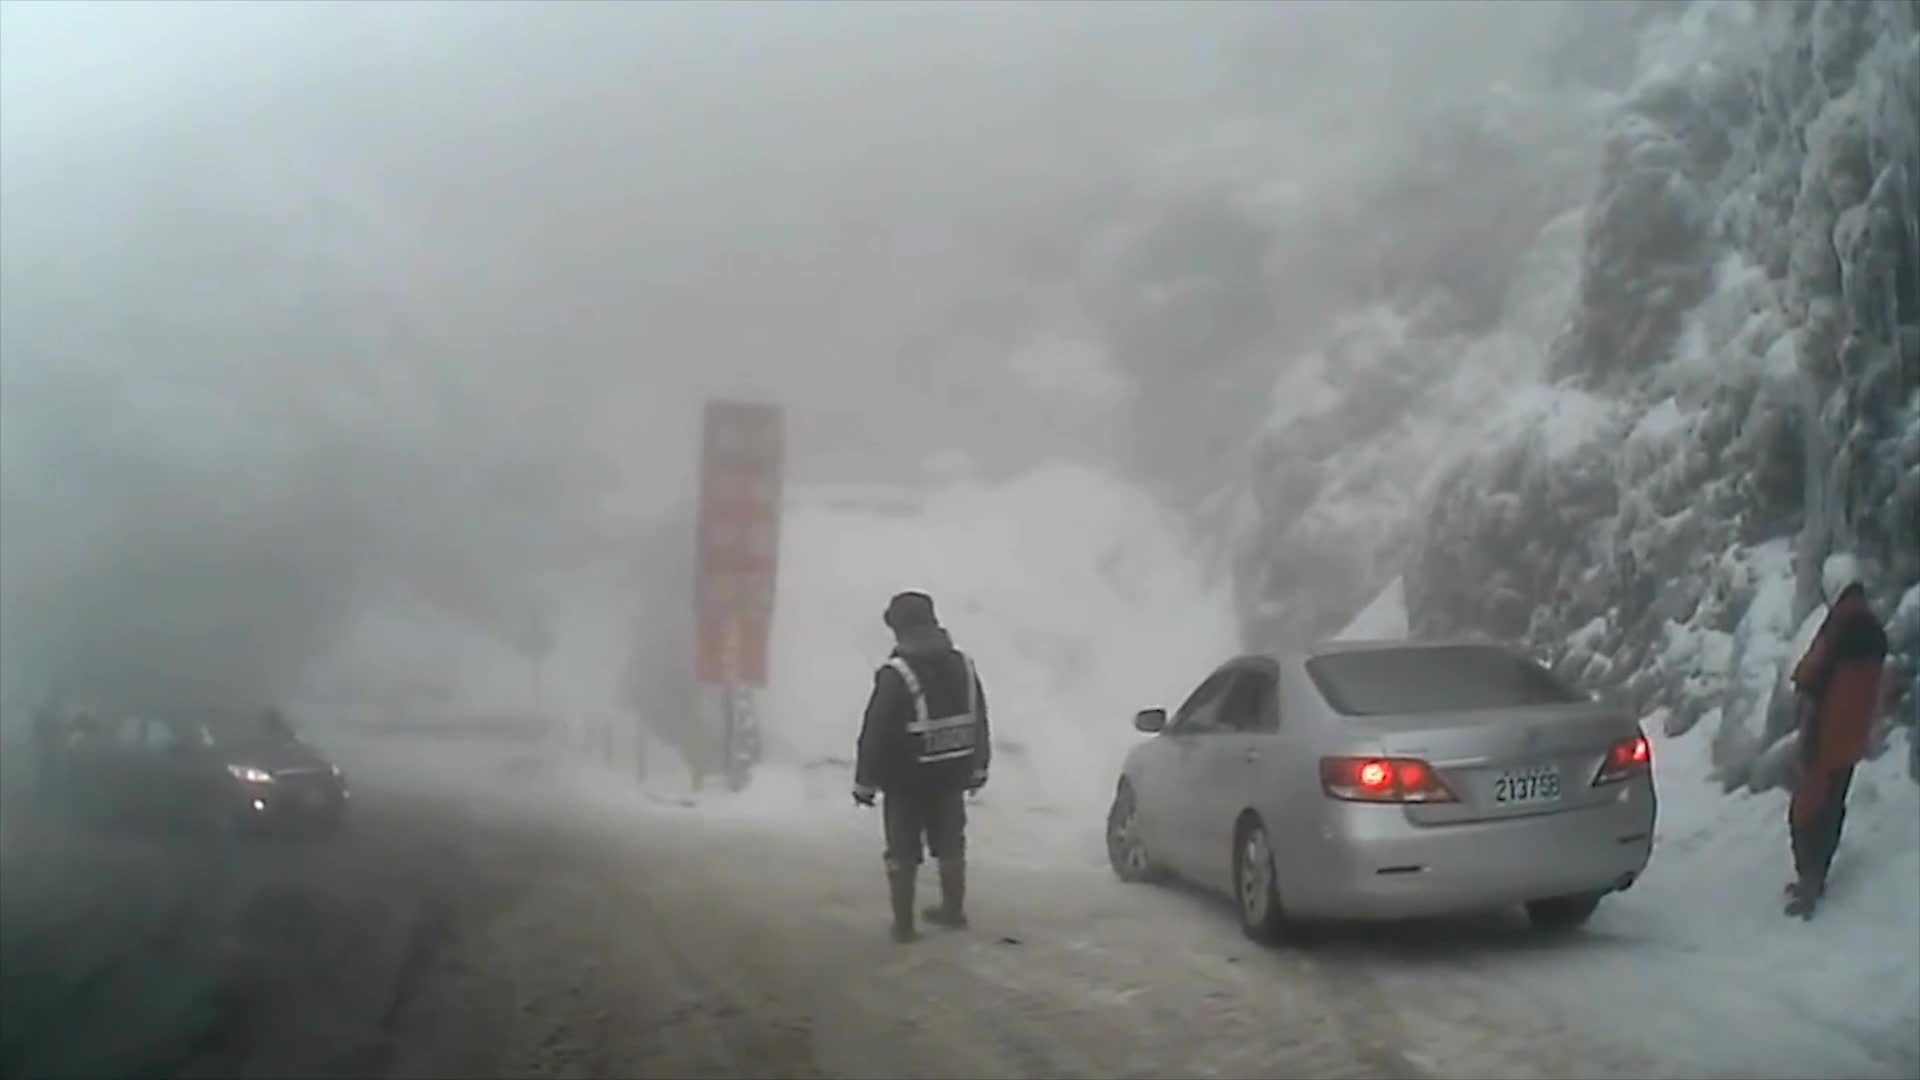pedestrian: (850, 591, 993, 945), (1775, 547, 1892, 918)
vehicle: (1104, 635, 1654, 941), (76, 703, 348, 853)
